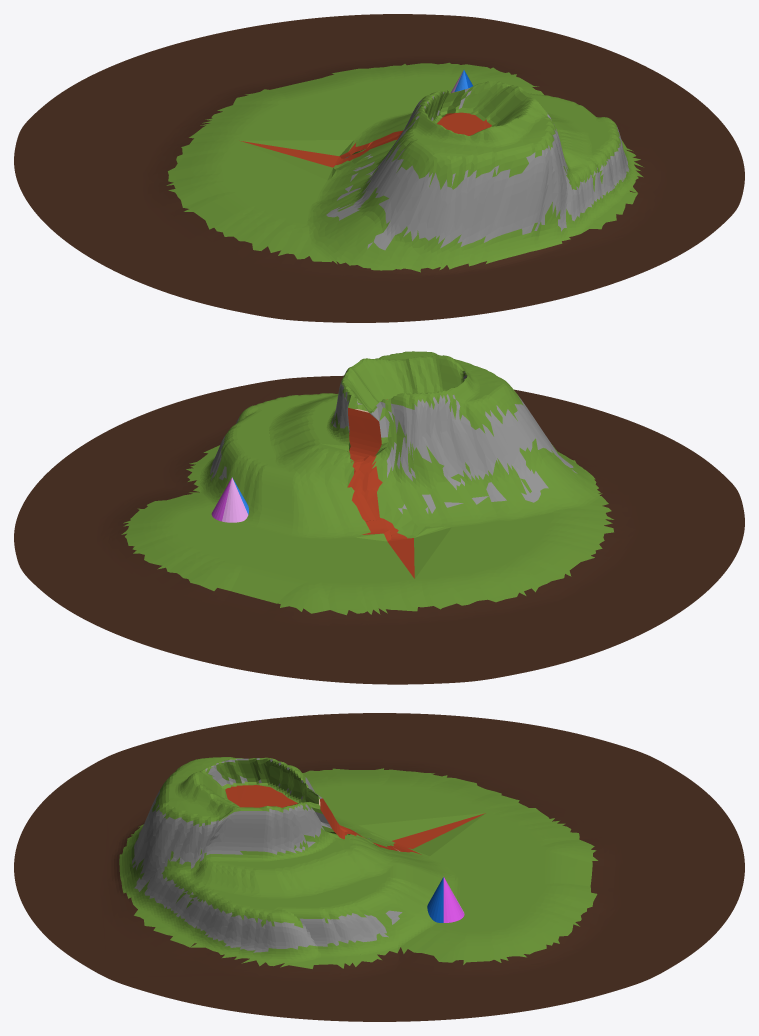
The model's file is island.gltf.
3 renders of one model, top to bottom at view 1: azimuth 30°, elevation 25°; view 2: azimuth 150°, elevation 25°; view 3: azimuth 270°, elevation 25°, orthographic. The views are drawn at different scales.
Visible parts, largest first — view 1: Cube; view 2: Cube; view 3: Cube.
Part boxes in pixels (x1,y1,x2,y2): Cube: (14, 14, 744, 322); Cube: (14, 351, 744, 684); Cube: (14, 713, 744, 1021).
Bounding box in the file's own units: 18.31 × 3.55 × 18.31.
1 material, 1 textured.
